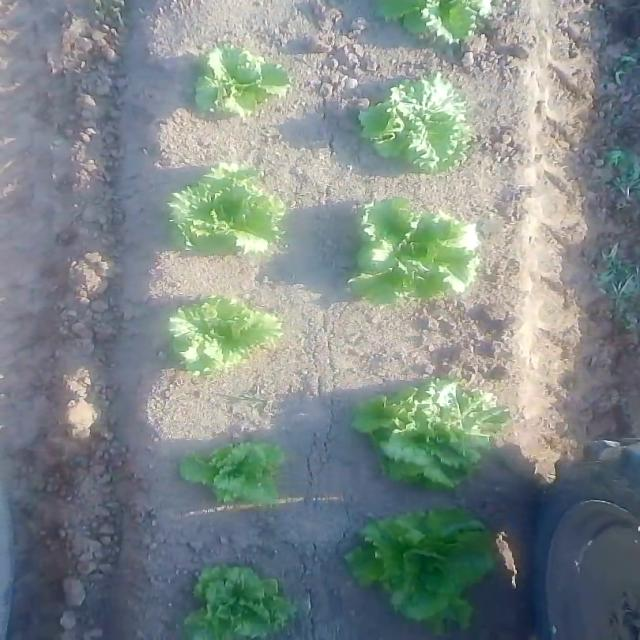Lettuce-Ready-to-Harvest: (345, 506, 497, 635), (351, 378, 508, 489), (346, 196, 479, 302), (360, 72, 476, 176), (166, 160, 290, 254), (187, 562, 297, 640), (170, 296, 282, 371), (174, 441, 287, 506), (196, 44, 290, 119)
